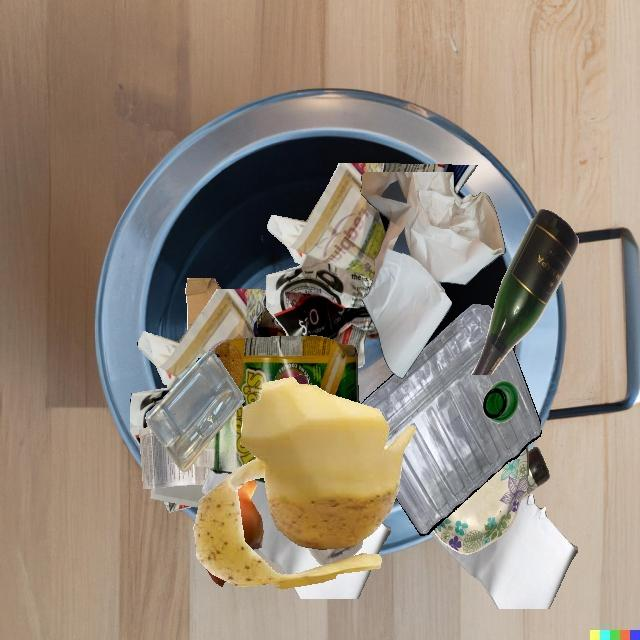biowaste: (194, 377, 415, 589), (237, 480, 264, 549)
cardboard: (212, 336, 359, 438), (433, 446, 529, 554), (185, 278, 221, 331)
glass: (471, 209, 578, 375), (520, 447, 550, 501), (483, 380, 519, 424)
paper: (266, 163, 477, 368), (360, 172, 505, 378), (130, 289, 287, 447), (429, 494, 578, 609), (139, 427, 211, 489), (269, 506, 352, 557), (257, 510, 321, 575), (293, 578, 358, 599), (352, 523, 391, 557), (150, 484, 205, 507)
plastic: (361, 304, 541, 535), (146, 350, 244, 472), (308, 540, 363, 566)
